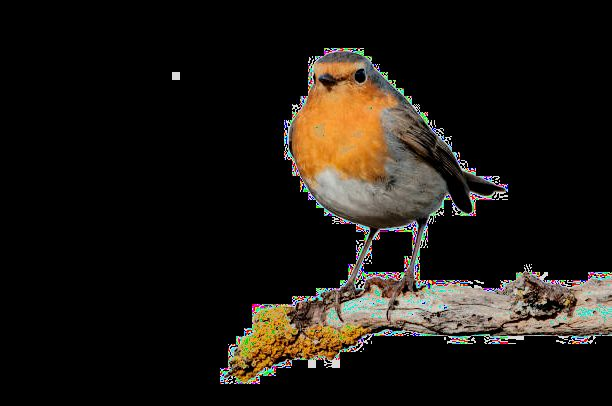Bird: (278, 44, 507, 326)
